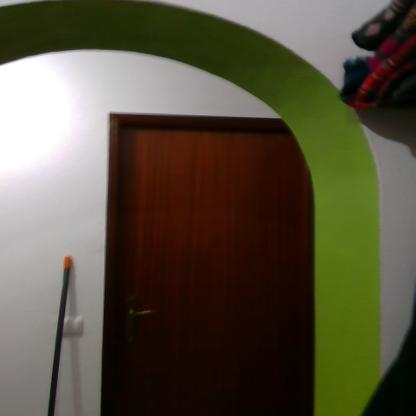door: (124, 124, 314, 415)
lever: (130, 310, 158, 319)
